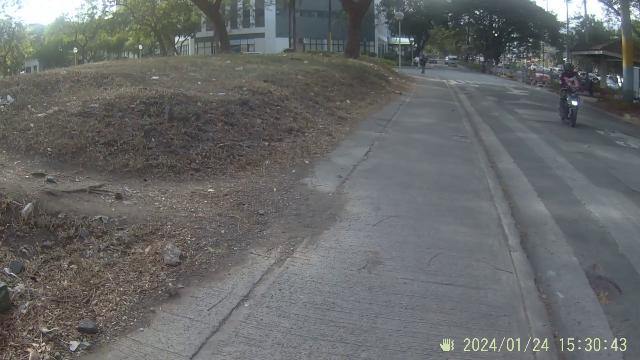lamp_post: (396, 12, 406, 72)
